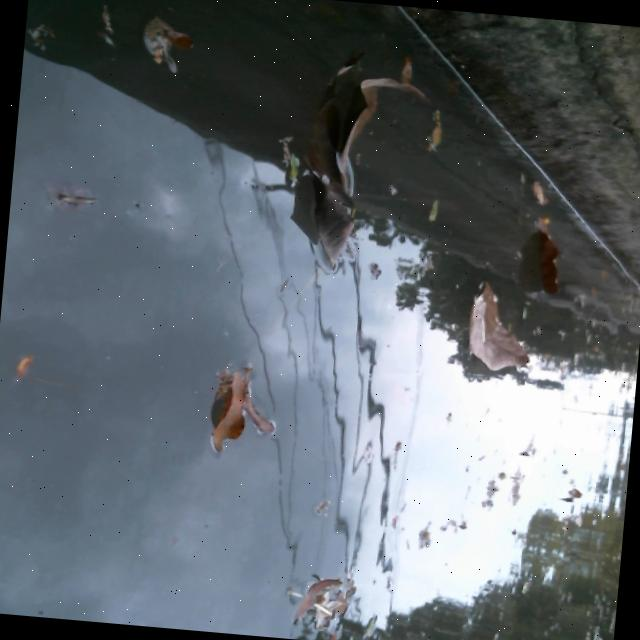Big-leaf: (313, 54, 429, 190), (273, 171, 368, 282), (443, 279, 539, 382), (512, 216, 575, 298)
Small-leaf: (122, 8, 205, 75), (285, 558, 355, 631), (0, 347, 77, 399), (200, 369, 245, 455), (231, 369, 288, 435), (32, 175, 105, 215), (87, 0, 126, 49), (420, 104, 453, 157), (511, 175, 555, 209), (501, 464, 529, 506), (24, 20, 63, 50), (550, 479, 585, 512), (408, 522, 440, 554), (415, 193, 439, 228), (478, 472, 501, 507)
